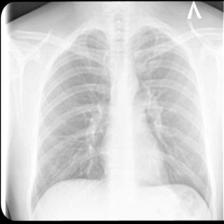tuberculosis: (29, 19, 220, 220)
